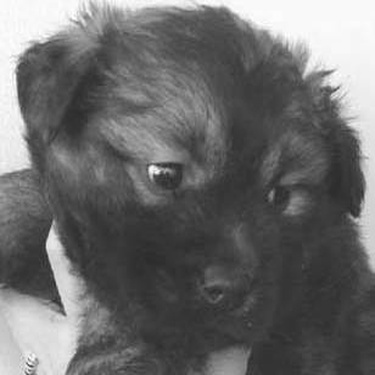dog: (3, 3, 370, 371)
